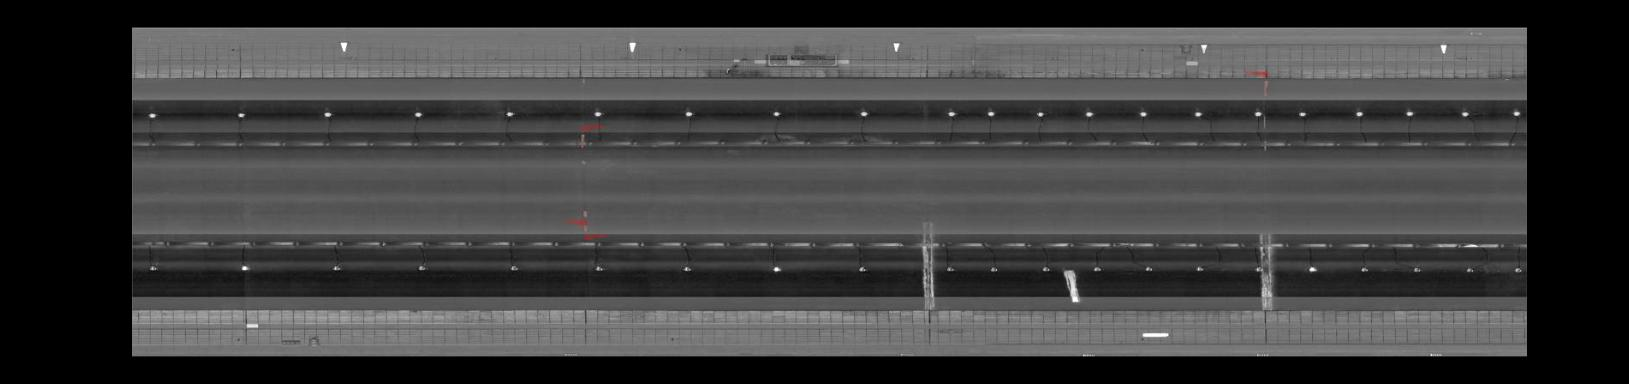light: (766, 262, 786, 275), (852, 108, 874, 120), (144, 260, 162, 274), (328, 262, 346, 275), (769, 107, 786, 120), (505, 262, 524, 274), (589, 108, 608, 120), (1139, 263, 1157, 275), (236, 260, 252, 274), (501, 108, 518, 120), (680, 108, 698, 120), (678, 263, 696, 275), (1508, 263, 1523, 277), (1463, 262, 1478, 275), (409, 108, 426, 120), (1456, 107, 1472, 119), (230, 110, 249, 120), (853, 264, 871, 275), (1189, 108, 1206, 119), (319, 109, 336, 120), (413, 262, 430, 273), (1351, 108, 1367, 119), (1080, 108, 1097, 119), (1040, 263, 1054, 275), (591, 264, 607, 275), (985, 264, 1000, 275), (983, 108, 998, 119), (1032, 108, 1047, 119), (1305, 263, 1320, 274), (1357, 263, 1372, 274), (1134, 108, 1150, 119), (1089, 264, 1105, 274), (1401, 108, 1418, 118), (942, 264, 957, 275), (1192, 264, 1206, 275), (1410, 264, 1424, 275), (1508, 108, 1523, 119), (1296, 108, 1310, 119), (144, 110, 160, 120), (943, 108, 960, 117), (1250, 107, 1264, 117), (1251, 264, 1264, 274)
